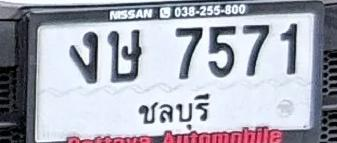1: (280, 22, 298, 75)
5: (208, 25, 236, 77)
7: (175, 26, 203, 79), (242, 24, 270, 76)
A07: (69, 31, 98, 84)
A39: (107, 29, 142, 82)
CBI: (133, 90, 213, 132)
